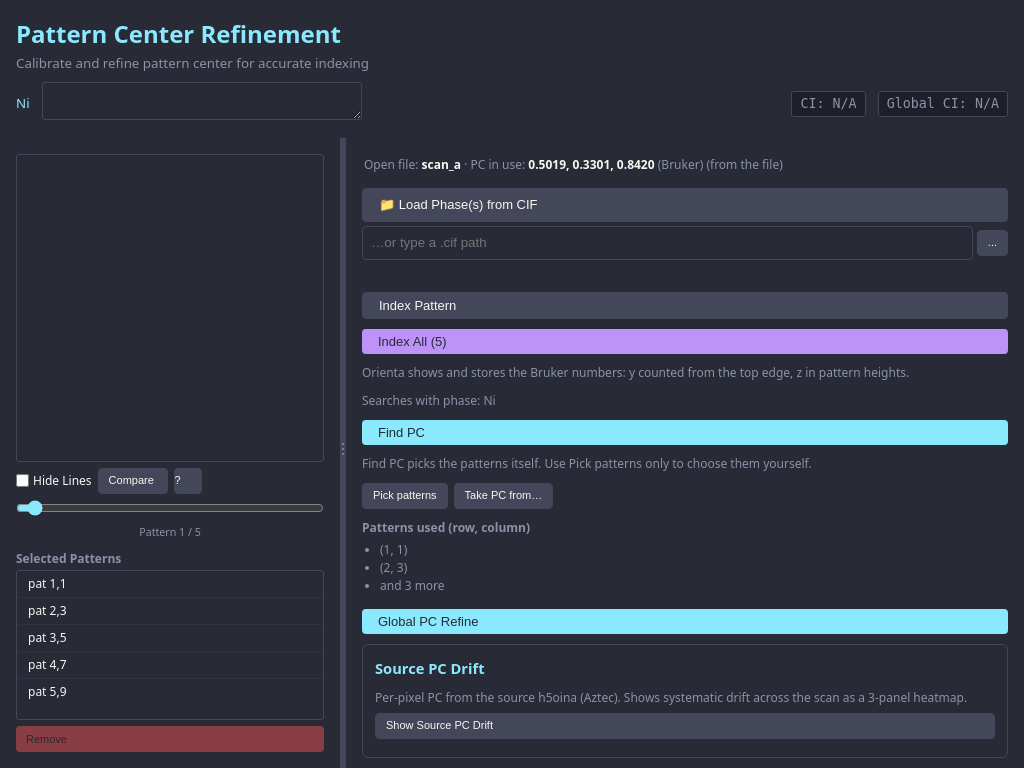
Test: Save as calibration (screen 5) › shows the PC, the fit contrast of the result, keeps Save off until a name is typed, and saves under that name
Click the button "Find PC". click: click(401, 432)
box: [362,420,1008,445]
(page scrolled)
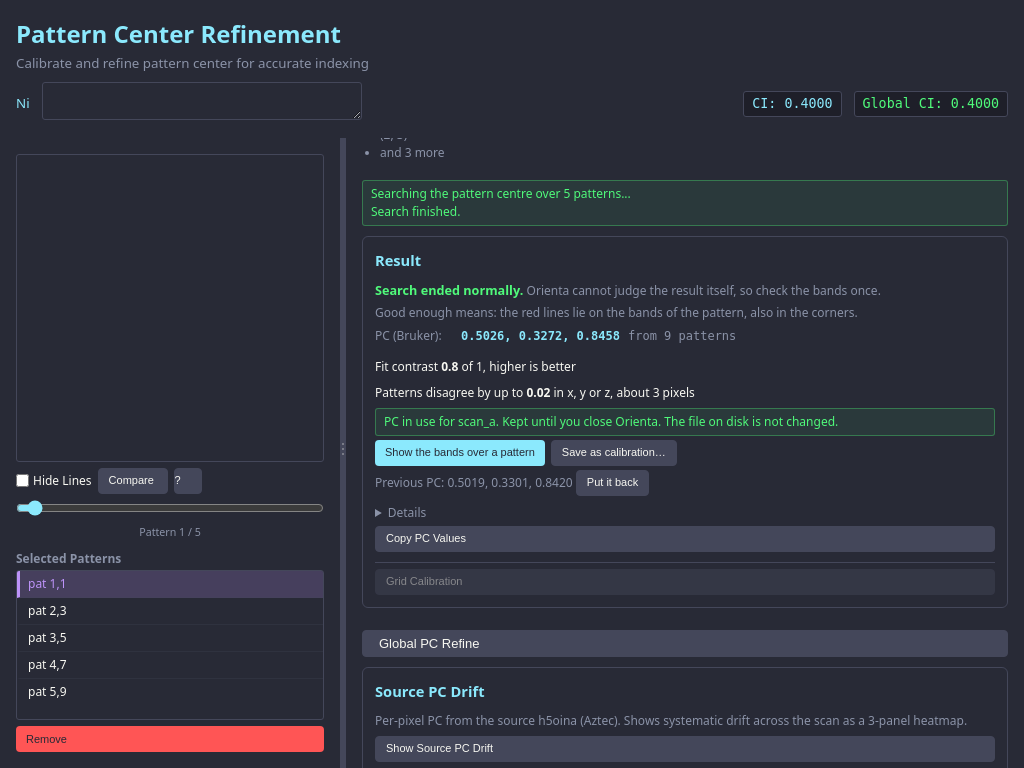
Click the button "Save as calibration…". click: click(614, 453)
box: [551,440,677,466]
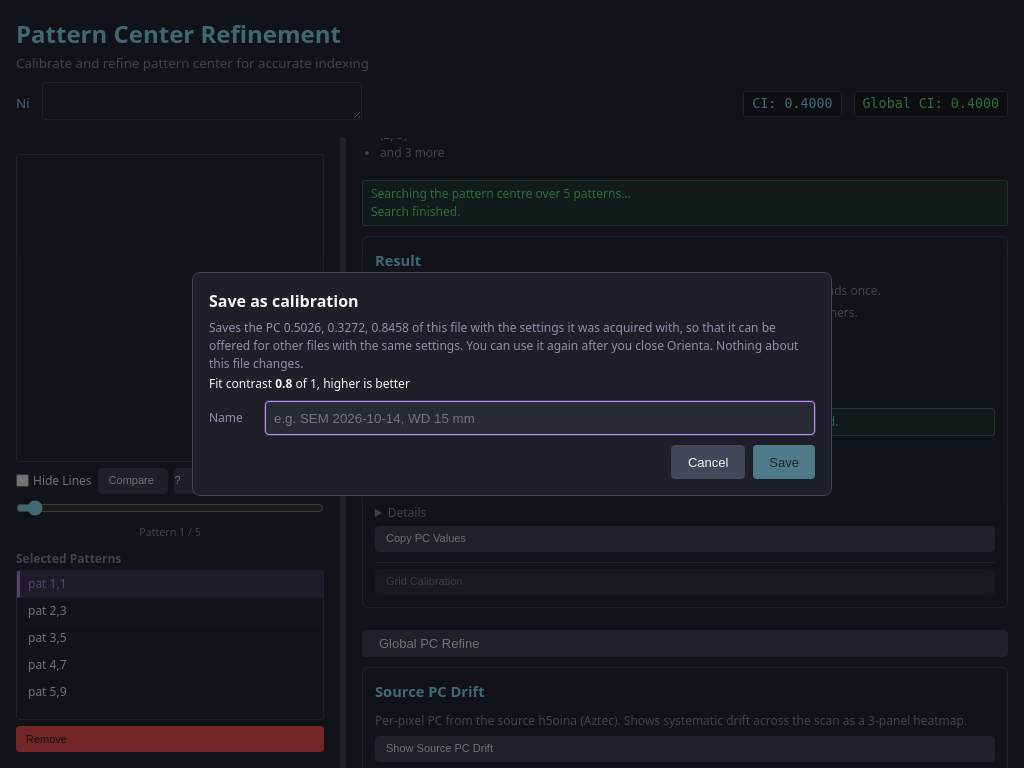
Expected: the heading reads "Save as calibration", [209,290,359,312]
Expected: the element with test id "save-contrast" reads "Fit contrast 0.8 of 1, higher is better", [209,375,410,392]
Expected: the button "Save" is disabled, [753,445,815,479]
Type "  REM A " into the field labelled "Name". click: (540, 418)
box: [265,401,815,435]
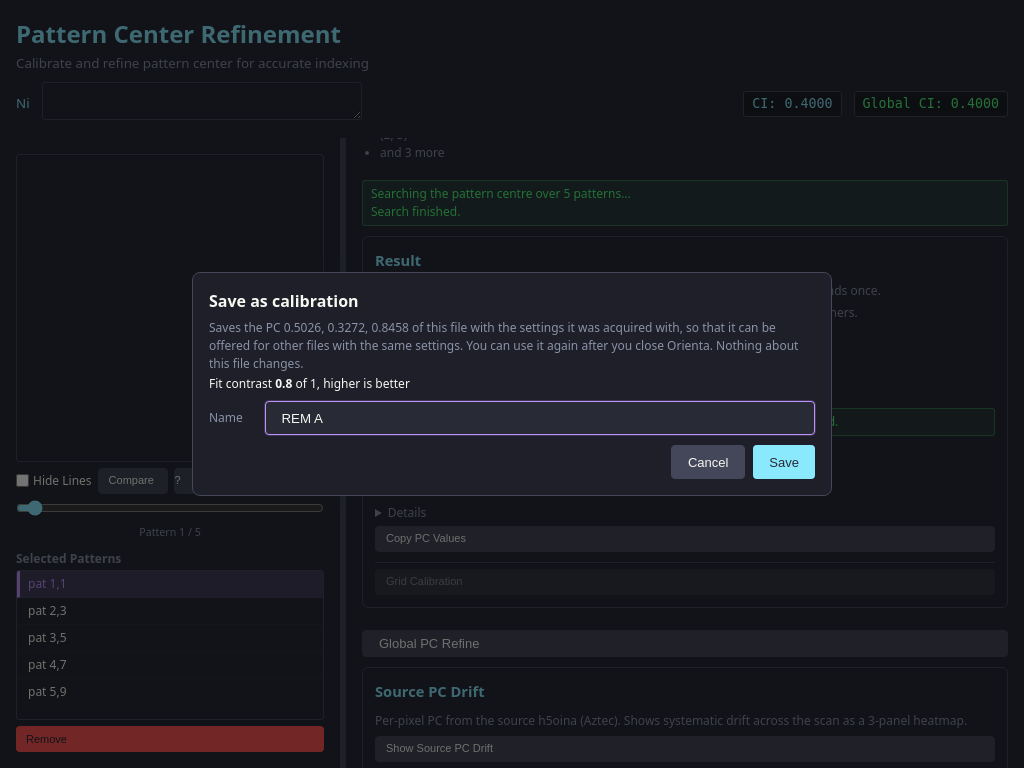
Expected: the button "Save" is enabled
Click the button "Save". click: click(784, 462)
box: [753,445,815,479]
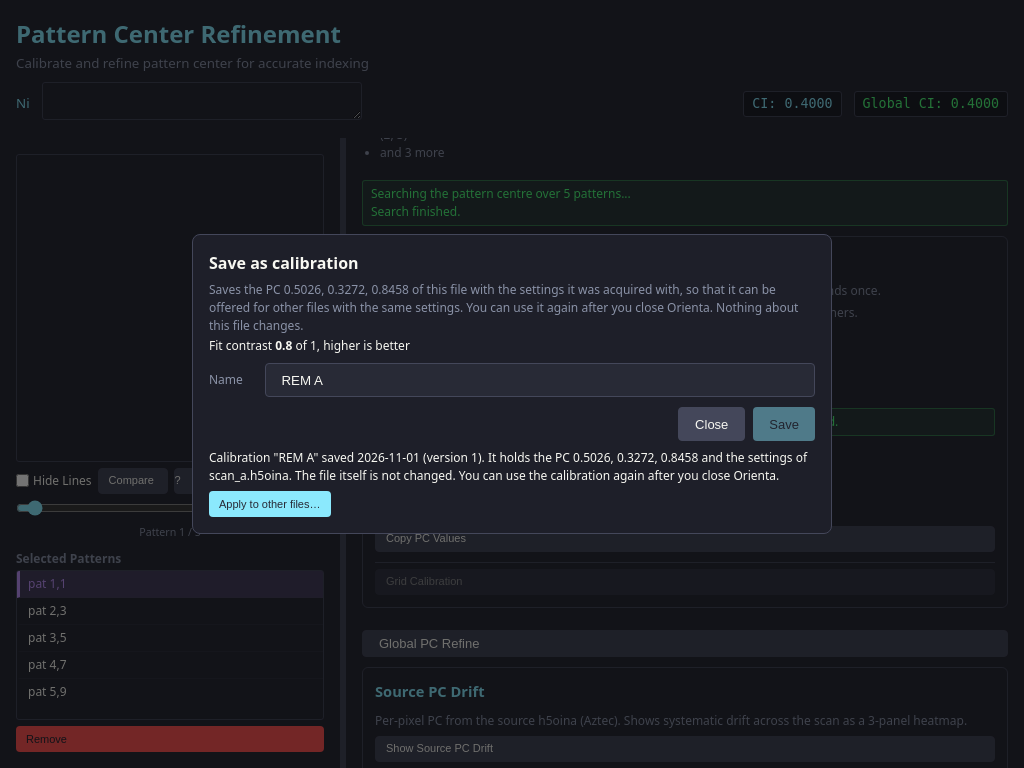
Expected: the element with test id "save-done" is shown, [209,449,815,517]
Expected: the button "Apply to other files…" is shown, [209,491,330,517]
Expected: the button "Save" is disabled, [753,407,815,441]
